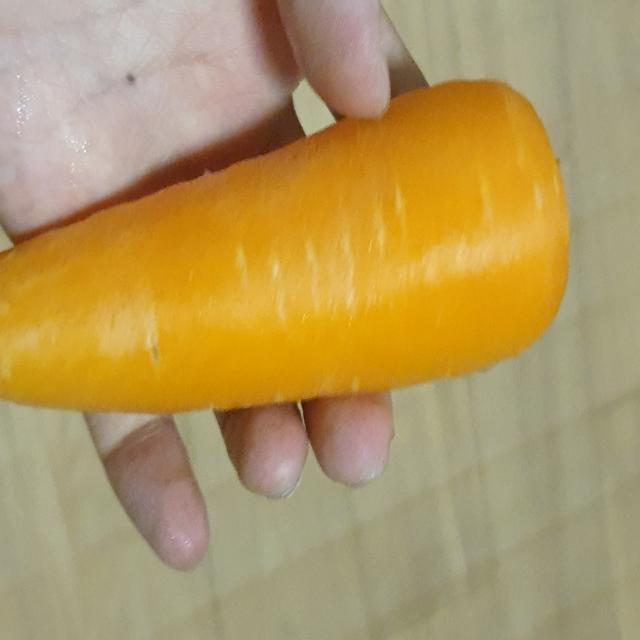carrot: (0, 65, 574, 417)
